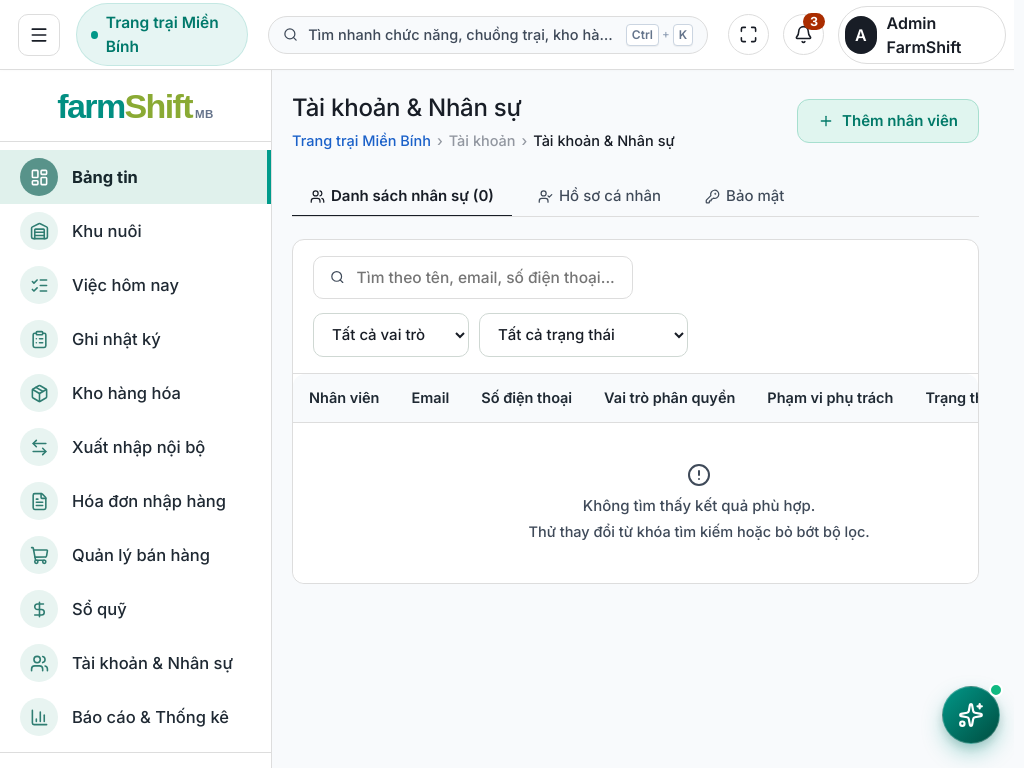
Full-System Automated Crawler & Smoke Sweep Test › Phase 4: Generic Sub-Tab Crawler across Complex Views › AccountView loads and populates personal profile form fields properly
Step 1. Click the button "Hồ sơ cá nhân" → (599, 196), box [520,176,679,217]
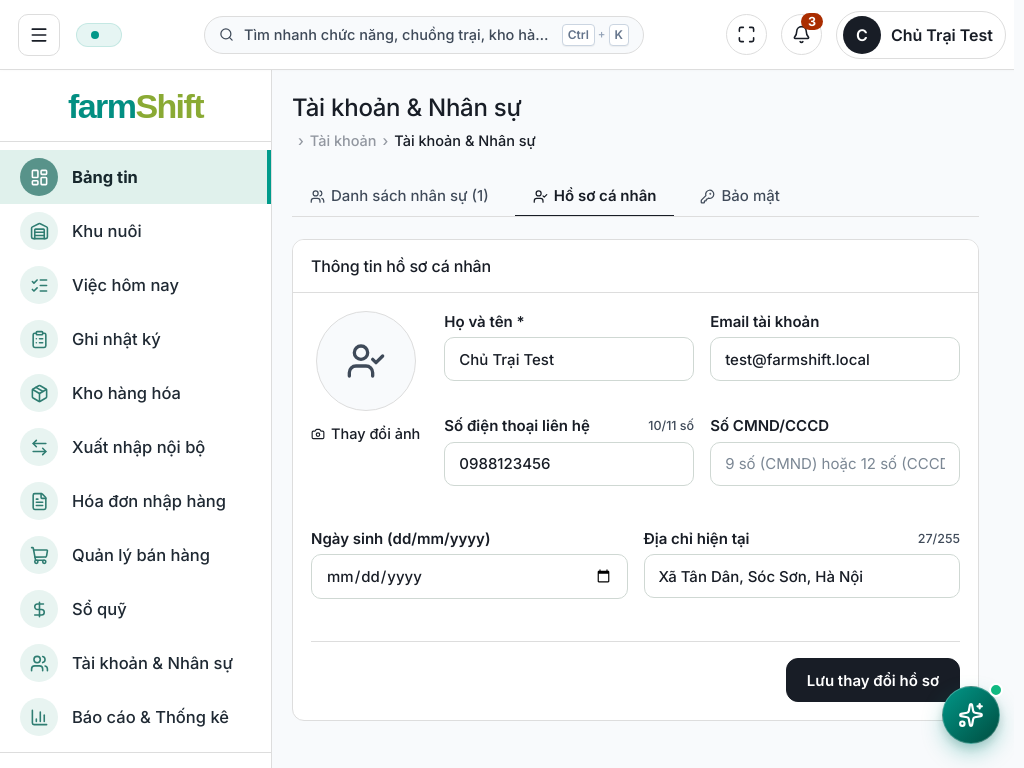
Check: the heading "Thông tin hồ sơ cá nhân" is shown, box [311,254,491,278]
Check: the field showing "Chủ Trại Test" is shown, box [444,337,694,381]
Check: the field showing "0988123456" is shown, box [444,442,694,486]
